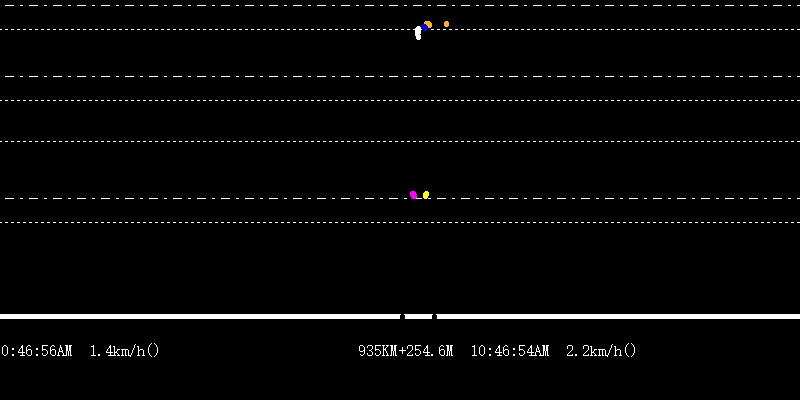face_1: (412, 22, 422, 42)
